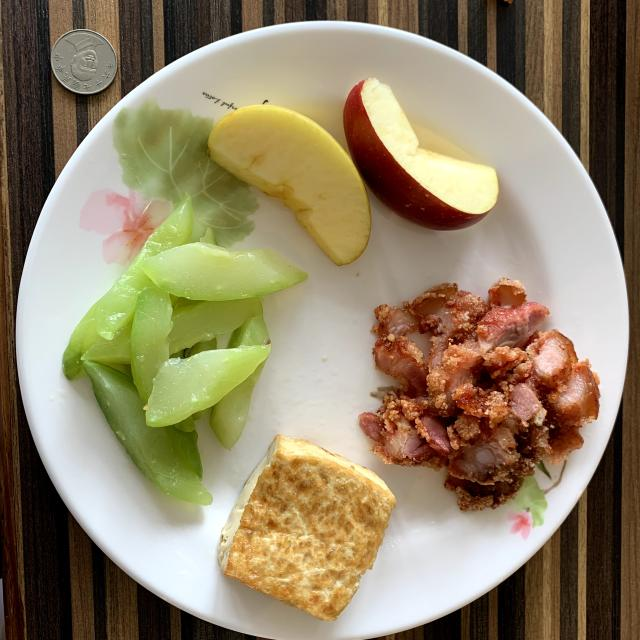apple -sliced-: (209, 78, 499, 265)
coin: (50, 30, 118, 95)
red grilled pork: (359, 278, 600, 510)
